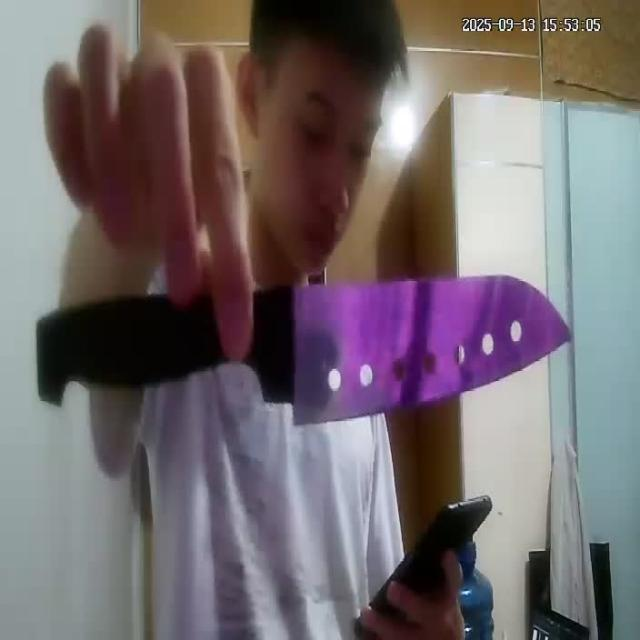senjata_tajam: (35, 273, 574, 428)
